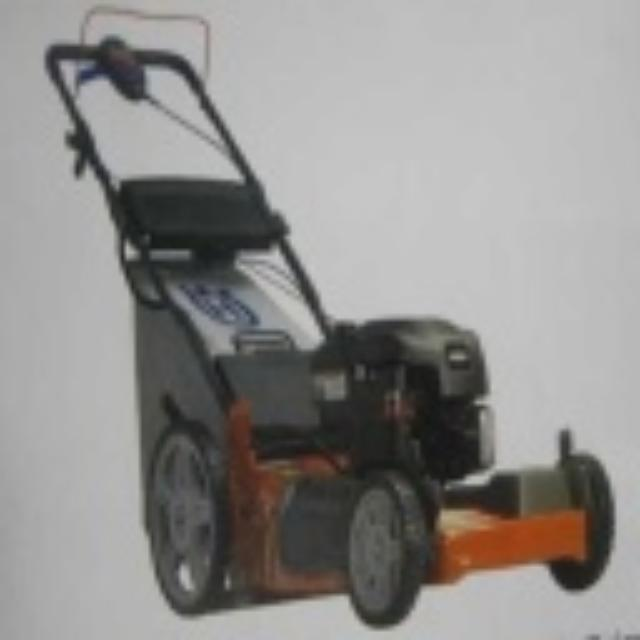Rotary-Mower: (40, 5, 616, 625)
